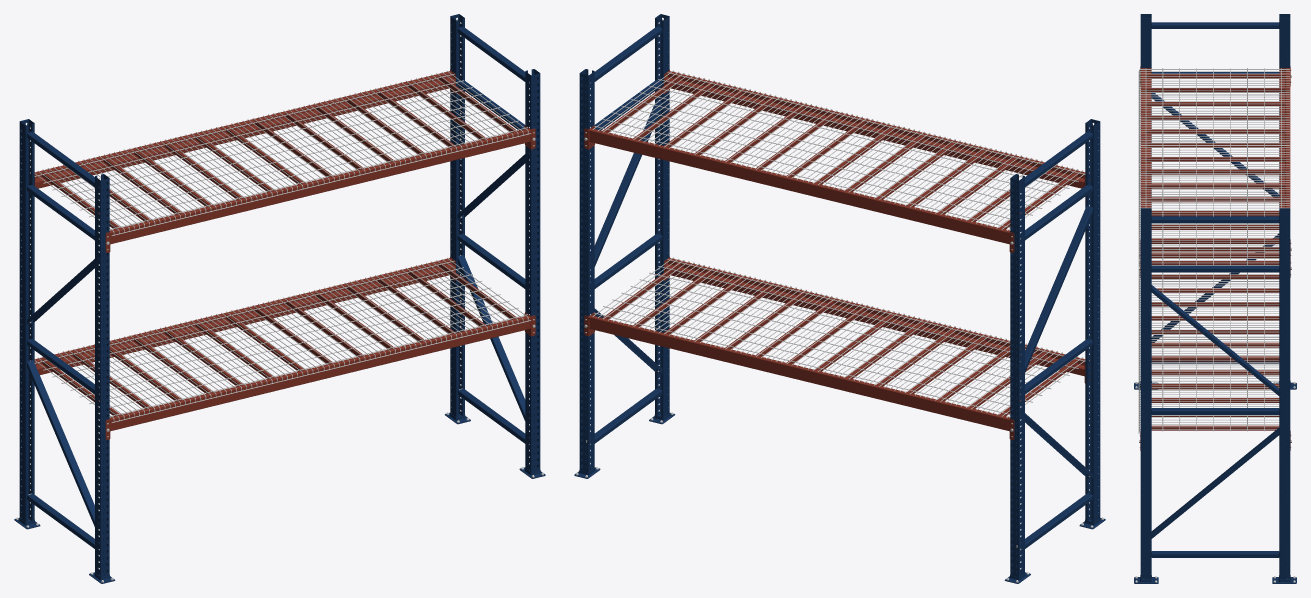
The model's file is rack_h3m_s01.glb.
3 renders of one model, left to right at view 1: azimuth 30°, elevation 25°; view 2: azimuth 150°, elevation 25°; view 3: azimuth 270°, elevation 25°, orthographic. The views are drawn at different scales.
Parts seen in each view (by area): view 1: sm_rack_h3m_s01_mesh_00; view 2: sm_rack_h3m_s01_mesh_00; view 3: sm_rack_h3m_s01_mesh_00.
Part boxes in pixels (bbox=[...]): sm_rack_h3m_s01_mesh_00: bbox=[14, 14, 545, 583]; sm_rack_h3m_s01_mesh_00: bbox=[574, 14, 1105, 583]; sm_rack_h3m_s01_mesh_00: bbox=[1134, 14, 1296, 583].
Bounding box in the file's own units: 3.49 × 3 × 1.19.
